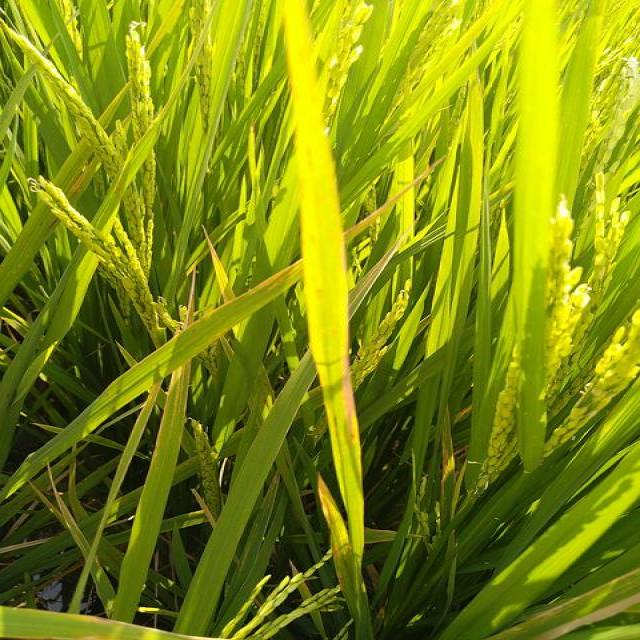Leaf Streak: (43, 261, 301, 455), (343, 173, 428, 241), (332, 291, 360, 444), (351, 249, 395, 313)
